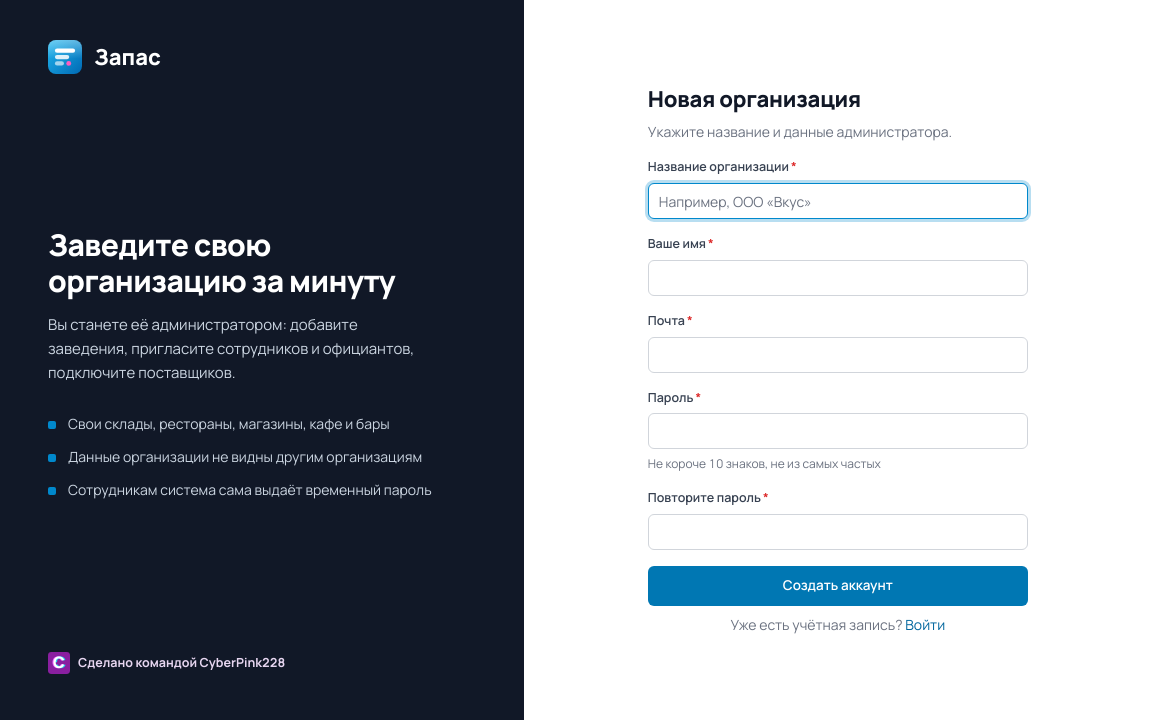
Test: подтверждение почты › неверный код показывает ответ сервера и очищает поле
Step 1. Type "ООО «Вкус»" into the field labelled "Название организации*" → (838, 201), box [648,183,1028,219]
Step 2. Type "Орлова Наталья" into the field labelled "Ваше имя*" → (838, 278), box [648,260,1028,296]
Step 3. Type "owner@vkus.example" into the field labelled "Почта*" → (838, 355), box [648,337,1028,373]
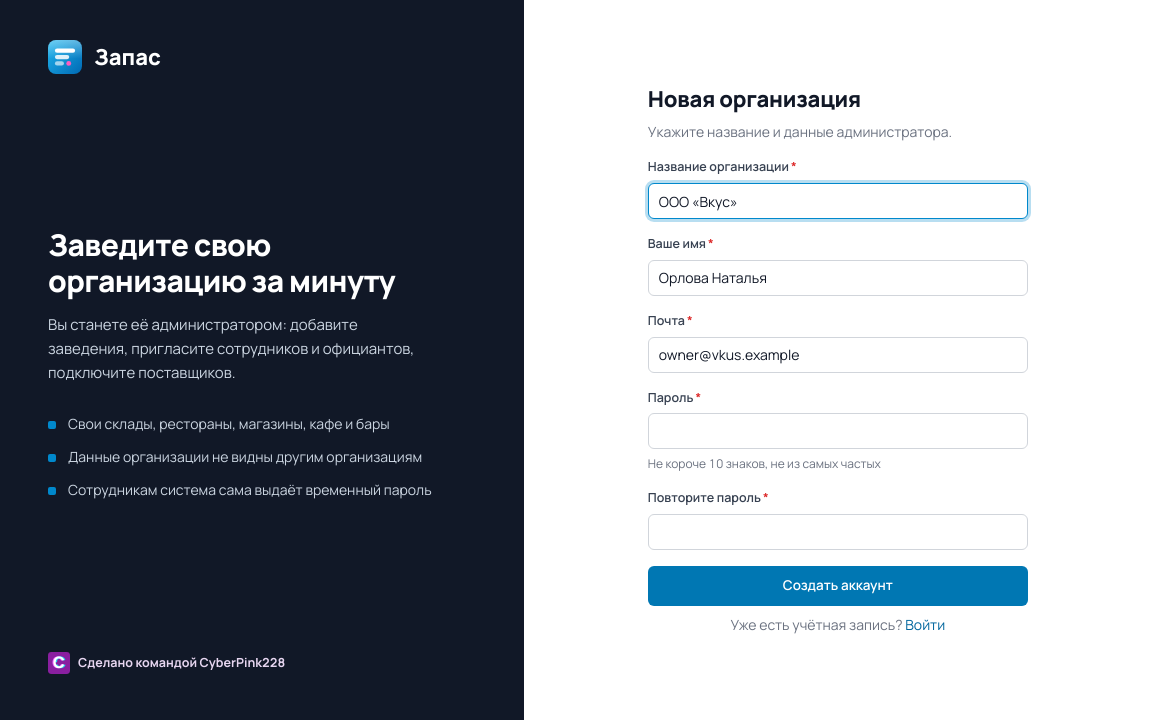
Step 4. Type "Хорошая-длинная-фраза-91" into the password field labelled "Пароль*" → (838, 431), box [648,413,1028,449]
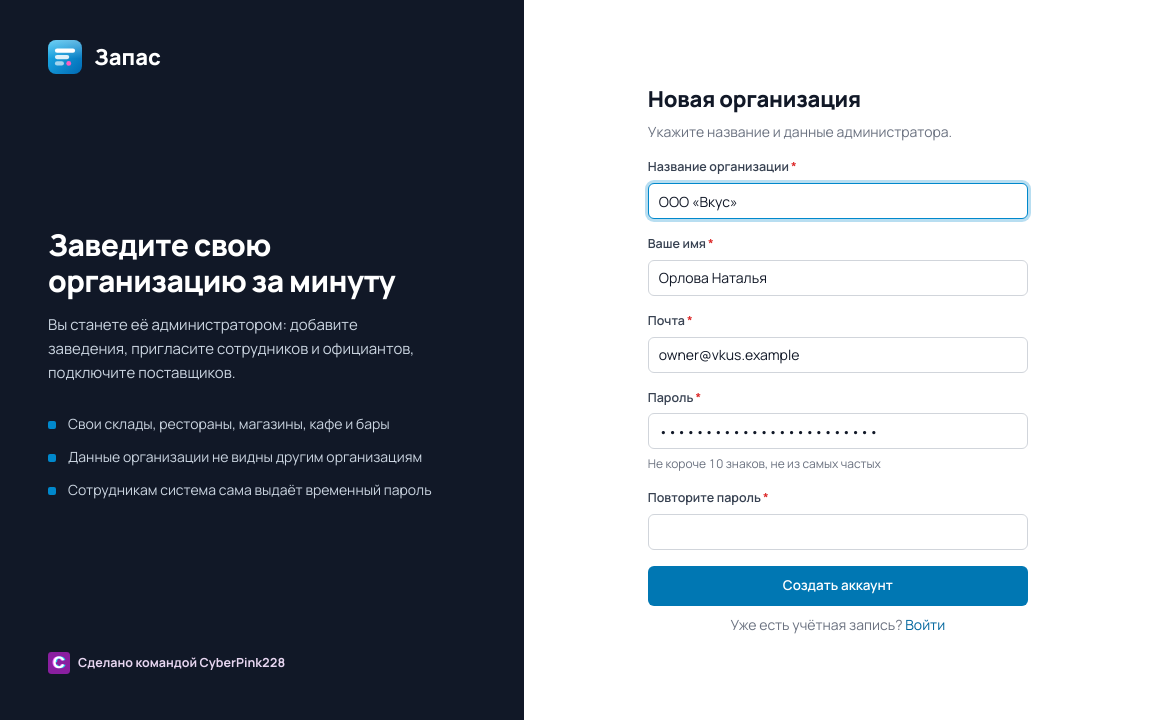
Step 5. Type "Хорошая-длинная-фраза-91" into the password field labelled "Повторите пароль*" → (838, 532), box [648,514,1028,550]
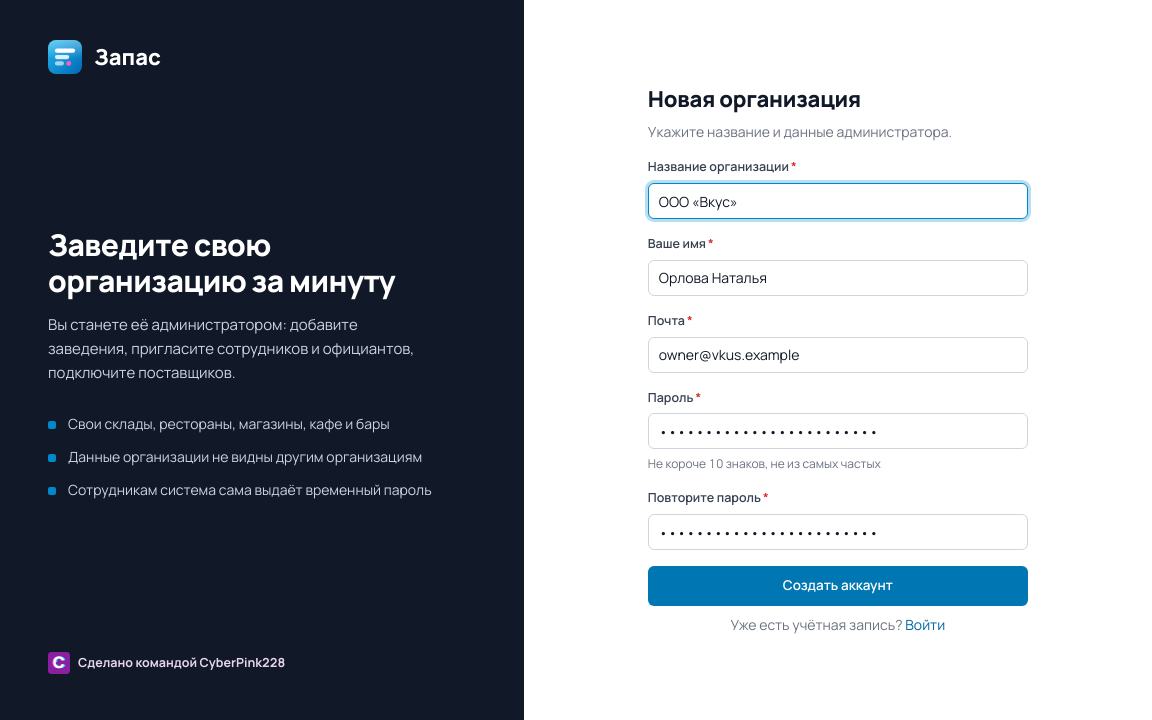
Step 6. Click the button "Создать аккаунт" → (838, 586), box [648,566,1028,606]
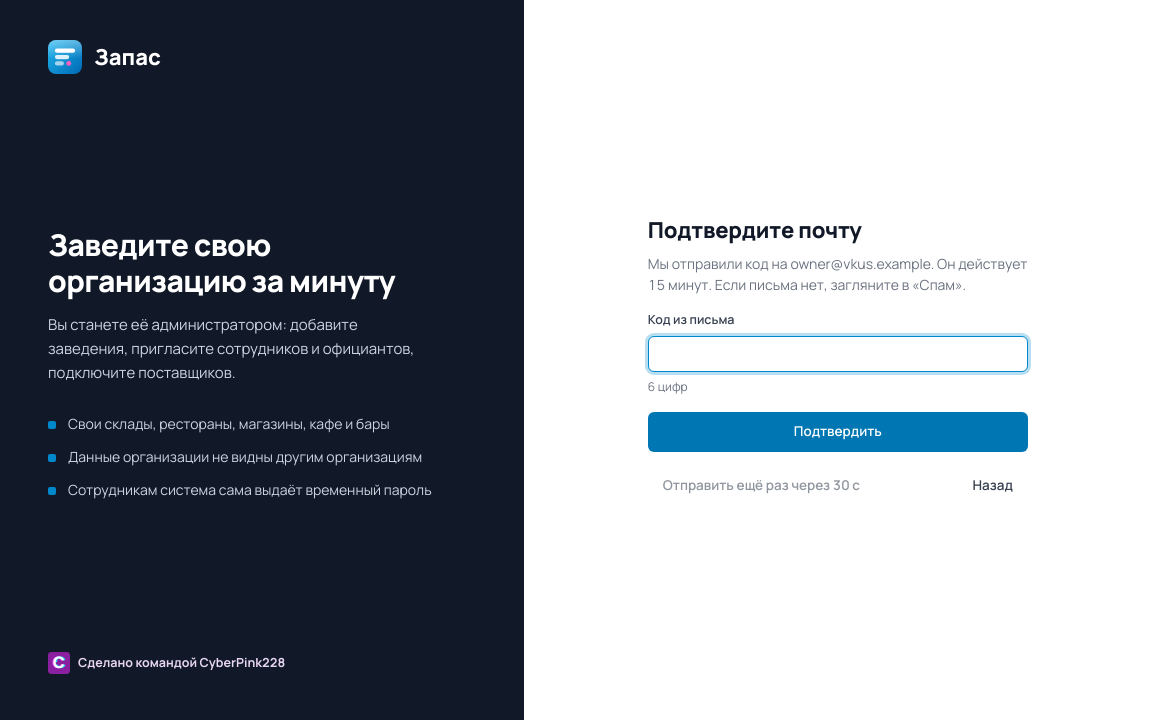
Now the heading "Подтвердите почту" is shown, box [648,215,862,245]
Step 7. Type "111111" into the field labelled "Код из письма" → (838, 354), box [648,336,1028,372]
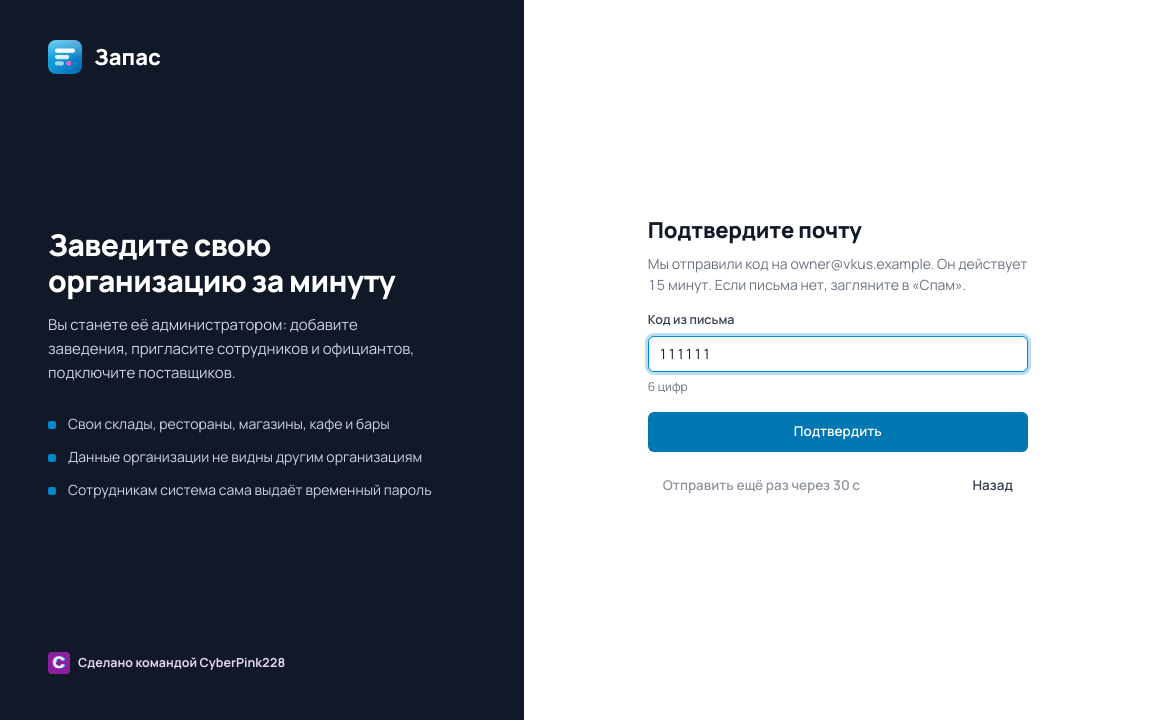
Step 8. Click the button "Подтвердить" → (838, 432), box [648,412,1028,452]
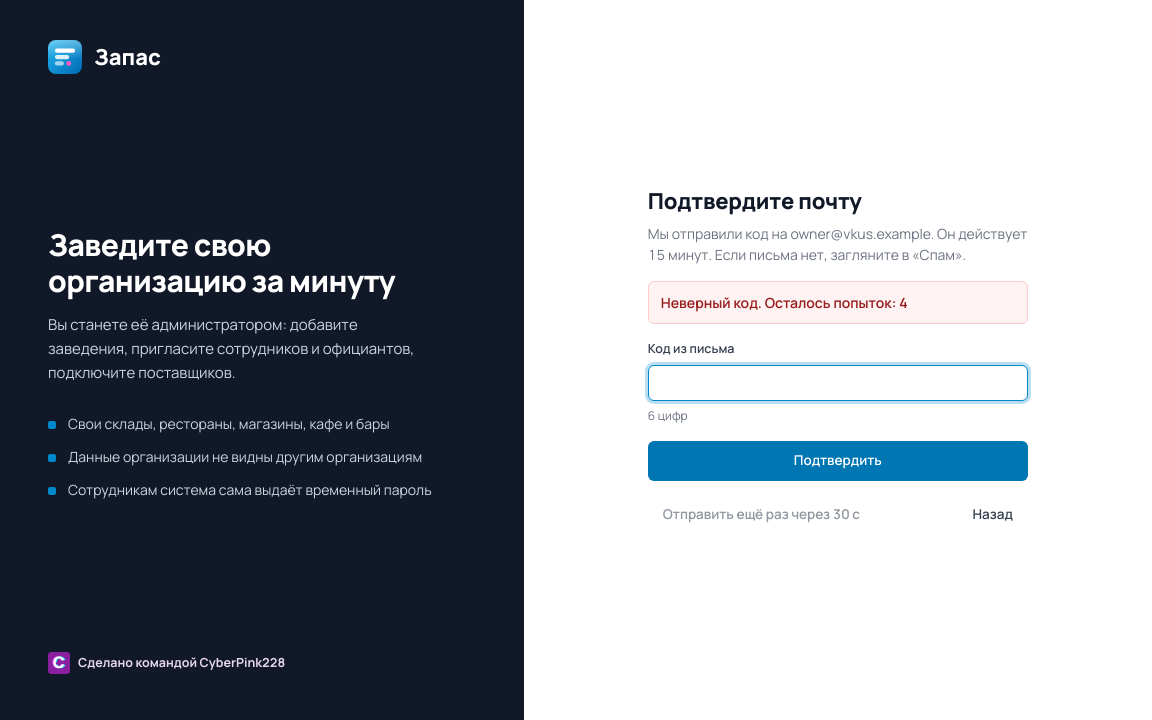
Now the text "Неверный код. Осталось попыток: 4" is shown, box [648,281,1028,324]
Now the field labelled "Код из письма" is empty, box [648,365,1028,401]
